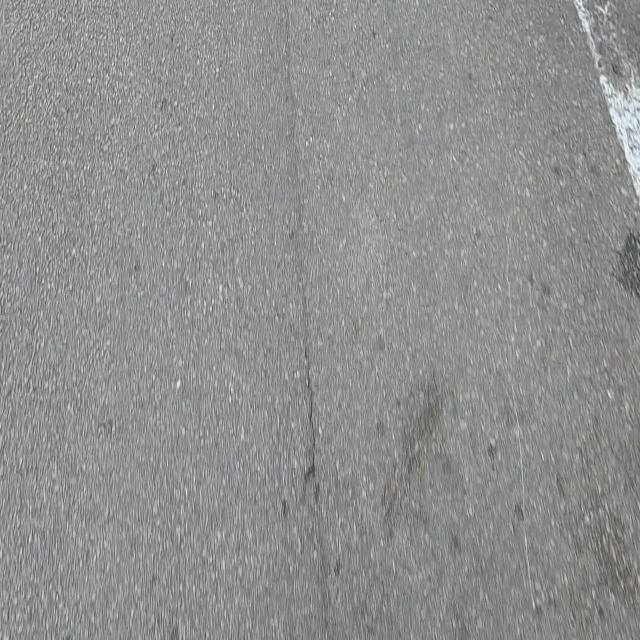Retak-Memanjang: (304, 349, 317, 483)
